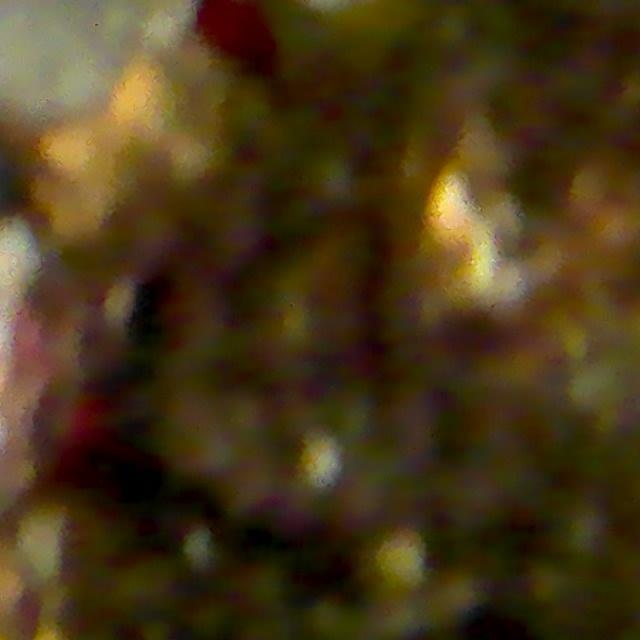SeaGrape: (125, 205, 181, 261)
